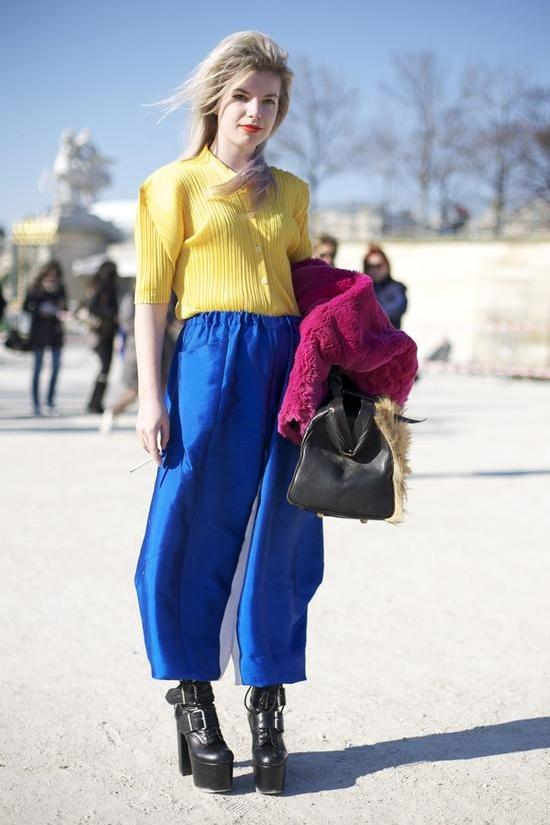pants: (134, 308, 325, 686)
sweater: (132, 142, 315, 322)
